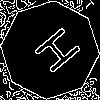H: (25, 25, 83, 82)
